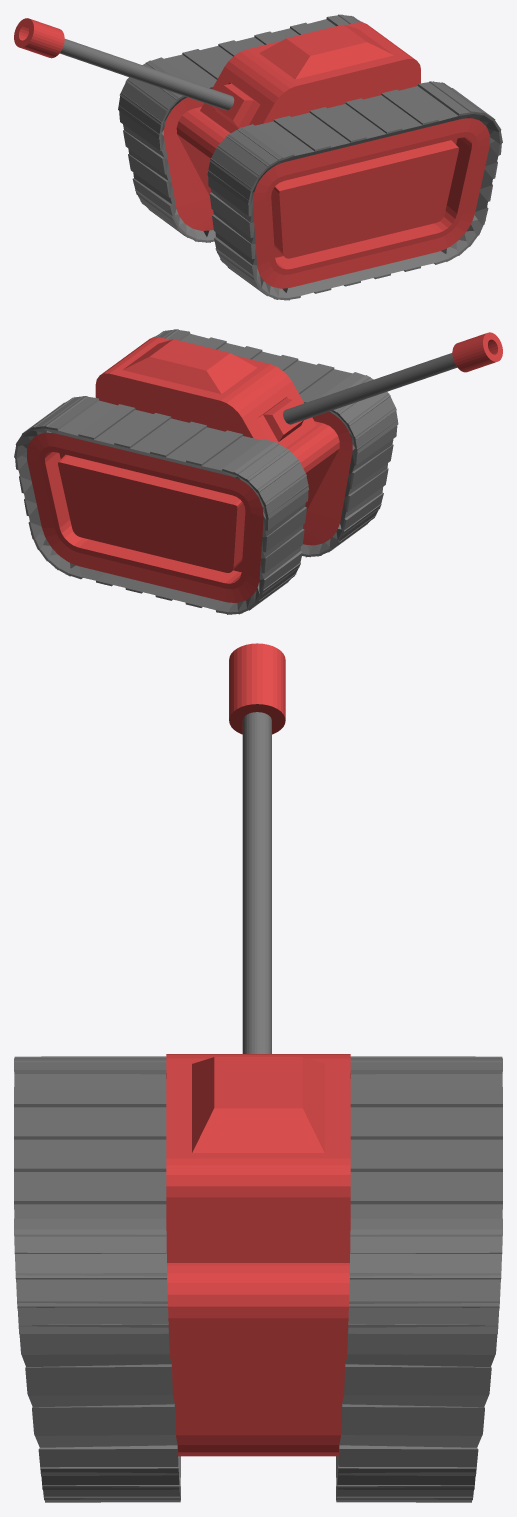
Rendered from tank.glb.
3 renders of one model, top to bottom at view 1: azimuth 30°, elevation 25°; view 2: azimuth 150°, elevation 25°; view 3: azimuth 270°, elevation 25°, orthographic. The views are drawn at different scales.
Visible parts, largest first — view 1: Cube, Track, Tube; view 2: Cube, Track, Tube; view 3: Track, Cube, Tube.
Boxes of the visible parts, <box> form: Cube: <box>164,22,489,288</box>; Track: <box>118,14,502,300</box>; Tube: <box>14,18,234,110</box>; Cube: <box>27,337,352,602</box>; Track: <box>14,329,398,614</box>; Tube: <box>283,332,502,424</box>; Track: <box>14,1056,502,1502</box>; Cube: <box>166,1054,350,1456</box>; Tube: <box>229,643,285,1053</box>.
Size of the model in its own units: 3.88 by 2.54 by 2.12.
